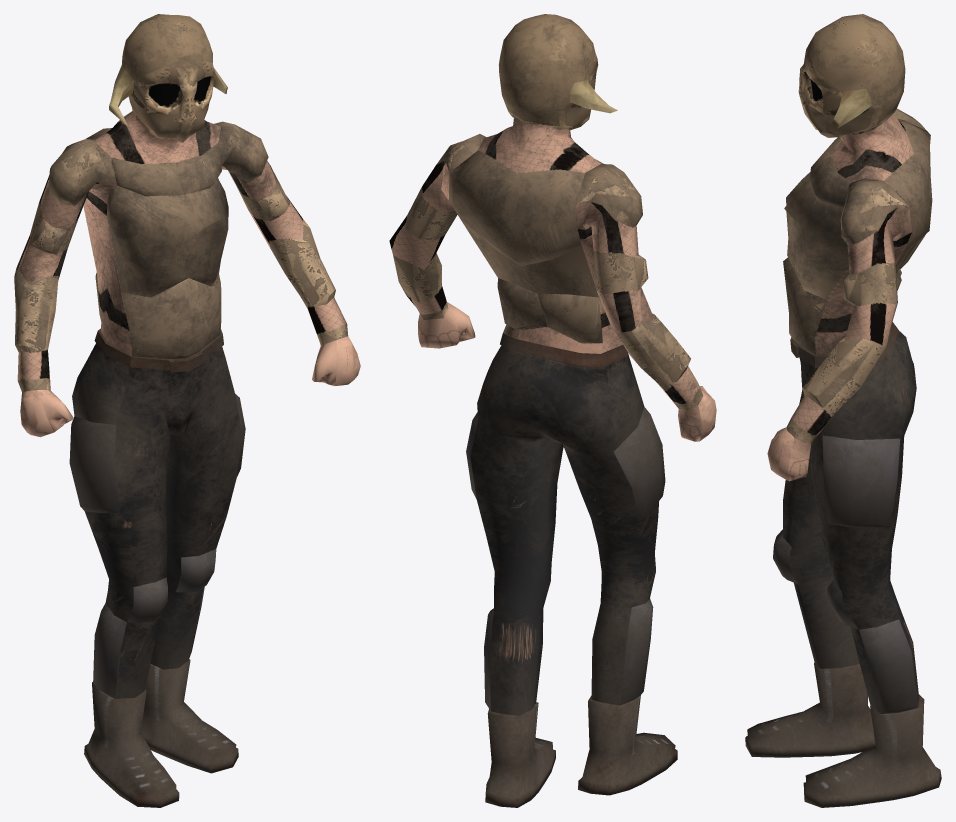
Rendered from Anim_interruptor_npc1.0018.obj.
The picture shows the model from 3 angles, left to right: view 1: azimuth 30°, elevation 25°; view 2: azimuth 150°, elevation 25°; view 3: azimuth 270°, elevation 25°; orthographic projection. The views are drawn at different scales.
Parts seen in each view (by area): view 1: NPC2; view 2: NPC2; view 3: NPC2.
Part boxes in pixels (x1,y1,x2,y2): NPC2: (14, 14, 360, 807); NPC2: (389, 14, 716, 807); NPC2: (745, 14, 941, 807).
Size of the model in its own units: 4.18 by 9.58 by 2.24.
